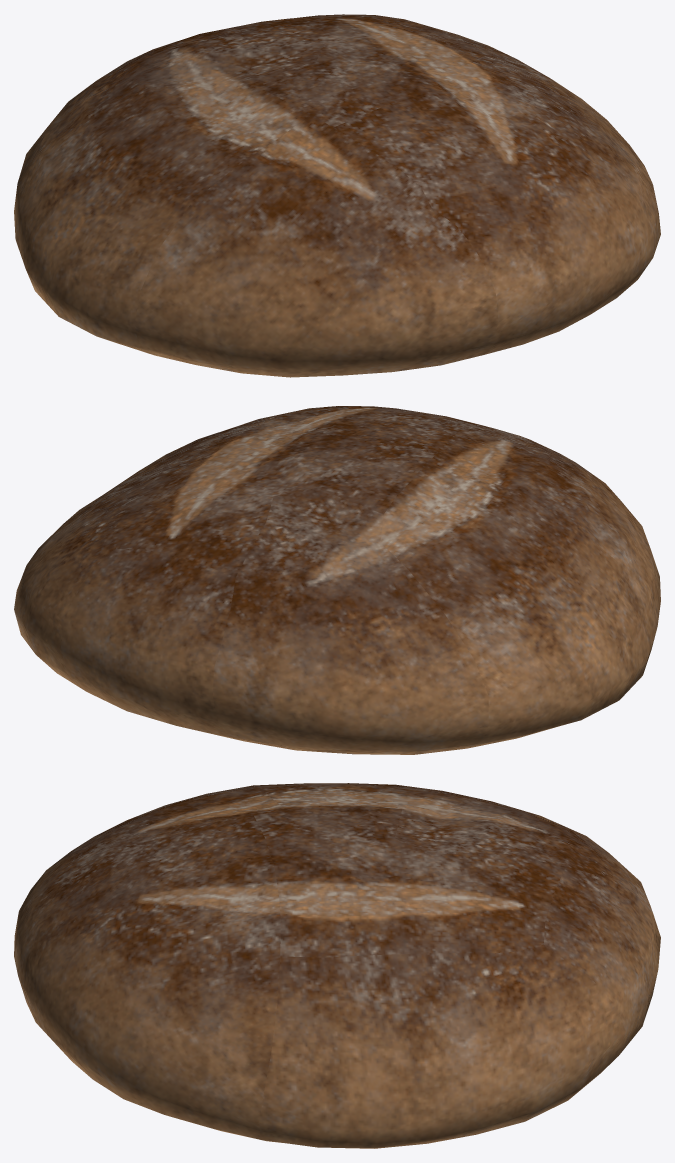
The model's file is Bread_24_honeybread_c_mesh.obj.
3 views of the same model, one above another, from view 1: azimuth 30°, elevation 25°; view 2: azimuth 150°, elevation 25°; view 3: azimuth 270°, elevation 25° (orthographic). The views are drawn at different scales.
Size of the model in its own units: 0.2849 by 0.0874 by 0.2726.
